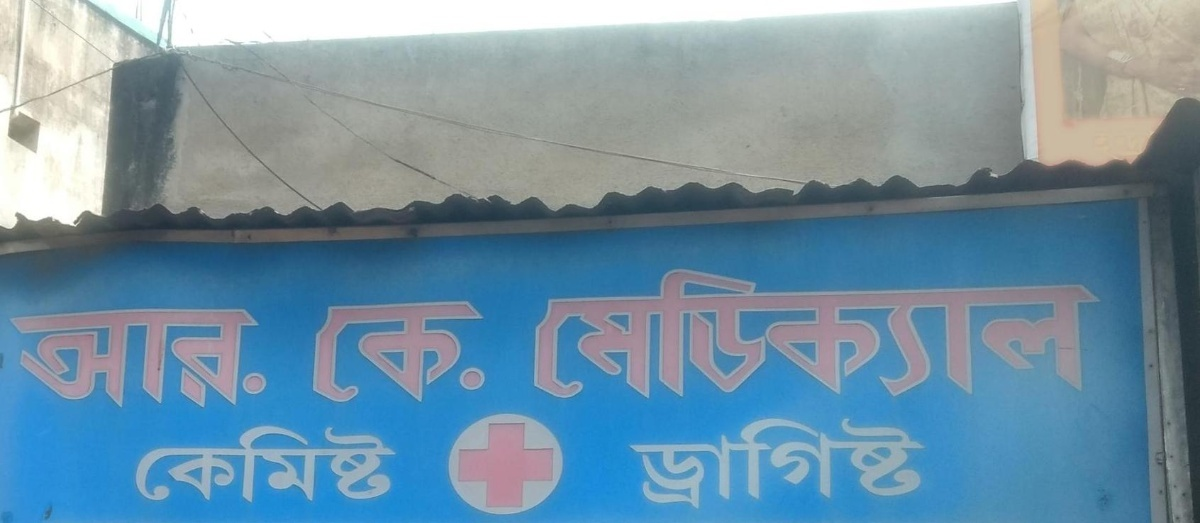text: (529, 262, 544, 413), (545, 262, 560, 413), (561, 262, 576, 413), (577, 262, 592, 413), (593, 262, 608, 413), (609, 262, 624, 413), (625, 262, 640, 413), (641, 262, 656, 413), (657, 262, 672, 413), (673, 262, 688, 413), (689, 262, 704, 413), (705, 262, 720, 413), (721, 262, 736, 413), (737, 262, 752, 413), (753, 262, 768, 413), (769, 262, 784, 413), (785, 262, 800, 413), (801, 262, 816, 413), (817, 262, 832, 413), (833, 262, 848, 413), (849, 262, 864, 413), (865, 262, 880, 413), (881, 262, 896, 413), (897, 262, 912, 413), (913, 262, 928, 413), (929, 262, 944, 413), (945, 262, 960, 413), (961, 262, 976, 413), (977, 262, 992, 413), (993, 262, 1008, 413), (1009, 262, 1024, 413), (1025, 262, 1040, 413), (1041, 262, 1056, 413), (1057, 262, 1072, 413), (1073, 262, 1088, 413), (1089, 262, 1104, 413), (321, 296, 336, 409), (337, 296, 352, 409), (353, 296, 368, 409), (369, 296, 384, 409), (385, 296, 400, 409), (401, 296, 416, 409), (417, 296, 432, 409), (433, 296, 448, 409), (449, 296, 464, 409), (465, 296, 480, 409), (17, 302, 32, 413), (33, 302, 48, 413), (49, 302, 64, 413), (65, 302, 80, 413), (81, 302, 96, 413), (97, 302, 112, 413), (113, 302, 128, 413), (129, 302, 144, 413), (145, 302, 160, 413), (161, 302, 176, 413), (177, 302, 192, 413), (193, 302, 208, 413), (209, 302, 224, 413), (225, 302, 240, 413), (241, 302, 256, 413), (257, 302, 272, 413), (641, 412, 656, 518), (657, 412, 672, 518), (673, 412, 688, 518), (689, 412, 704, 518), (705, 412, 720, 518), (721, 412, 736, 518), (737, 412, 752, 518), (753, 412, 768, 518), (769, 412, 784, 518), (785, 412, 800, 518), (801, 412, 816, 518), (817, 412, 832, 518), (833, 412, 848, 518), (849, 412, 864, 518), (865, 412, 880, 518), (881, 412, 896, 518), (897, 412, 912, 518), (913, 412, 928, 518), (627, 412, 640, 518), (129, 421, 144, 511), (145, 421, 160, 511), (161, 421, 176, 511), (177, 421, 192, 511), (193, 421, 208, 511), (209, 421, 224, 511), (225, 421, 240, 511), (241, 421, 256, 511), (257, 421, 272, 511), (273, 421, 288, 511), (289, 421, 304, 511), (305, 421, 320, 511), (321, 421, 336, 511), (337, 421, 352, 511), (353, 421, 368, 511), (369, 421, 384, 511), (520, 262, 528, 413), (385, 421, 398, 511), (310, 296, 320, 409), (481, 296, 491, 409), (6, 302, 16, 413), (1105, 262, 1110, 413), (273, 302, 274, 413), (929, 412, 930, 518)
